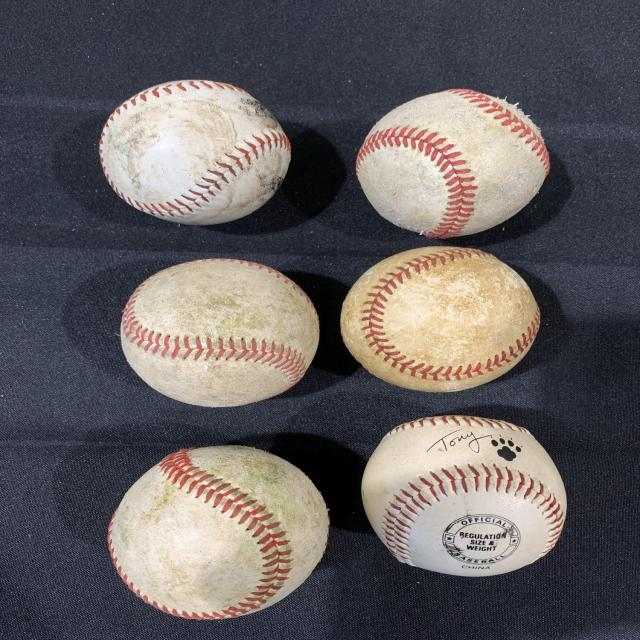baseball: (109, 443, 333, 620), (364, 412, 566, 578), (356, 87, 552, 236), (122, 260, 322, 405), (96, 76, 287, 226), (342, 245, 539, 390)
